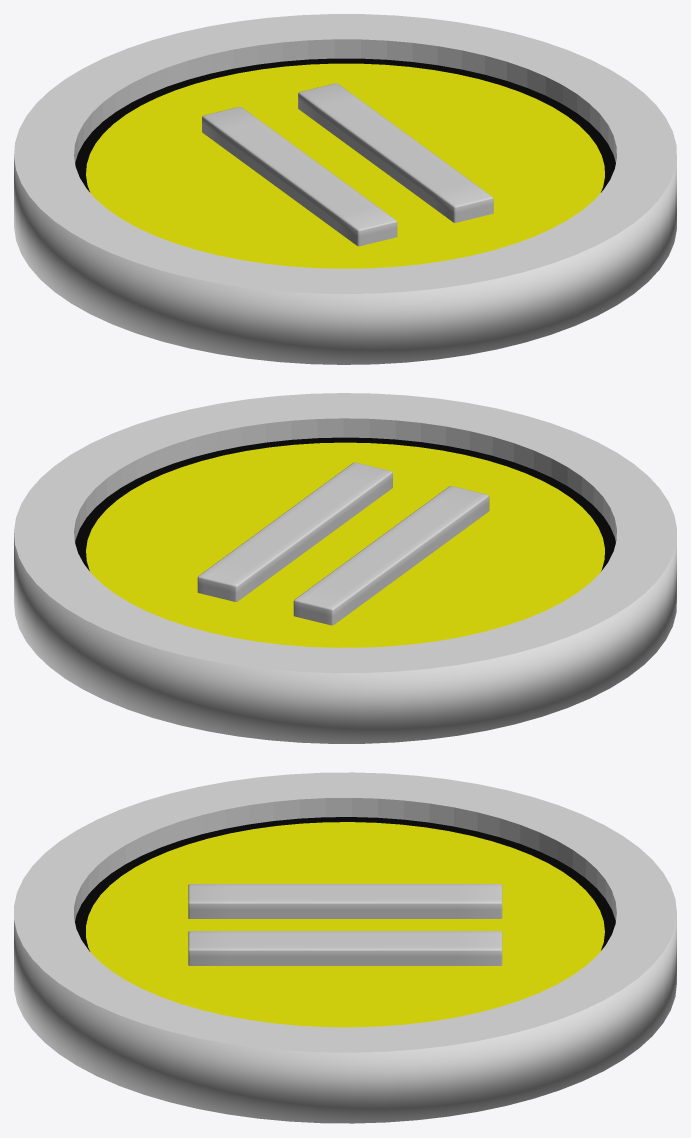
Rendered from Pause.fbx.
The picture shows the model from 3 angles, top to bottom: view 1: azimuth 30°, elevation 25°; view 2: azimuth 150°, elevation 25°; view 3: azimuth 270°, elevation 25°; orthographic projection.
Parts seen in each view (by area): view 1: Pause-Button; view 2: Pause-Button; view 3: Pause-Button.
Part boxes in pixels (box(x1,y1,x2,y2)): Pause-Button: box(14, 14, 676, 364); Pause-Button: box(14, 393, 676, 743); Pause-Button: box(14, 772, 676, 1123).
Size of the model in its own units: 244 by 28.76 by 244.
